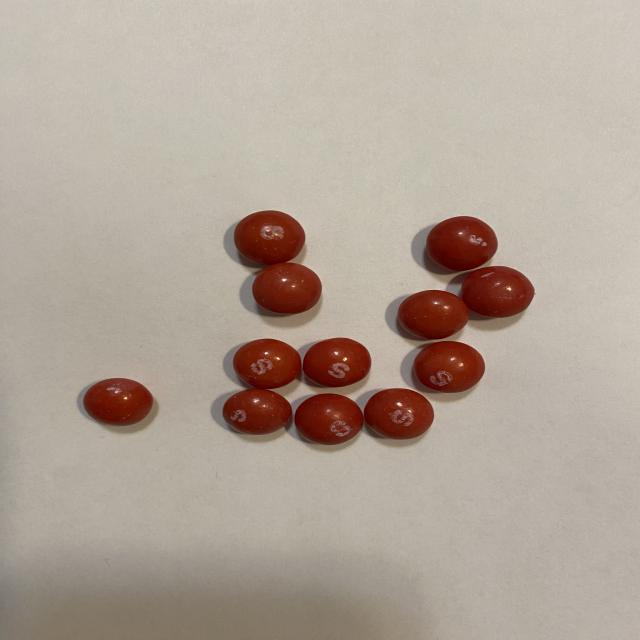smartie: (233, 210, 305, 265), (426, 216, 498, 271), (461, 266, 535, 317), (414, 342, 486, 393), (251, 262, 321, 314), (294, 394, 364, 445), (364, 389, 434, 440), (398, 290, 469, 339), (232, 339, 301, 389), (303, 338, 371, 388), (82, 378, 152, 426), (222, 389, 291, 435)
